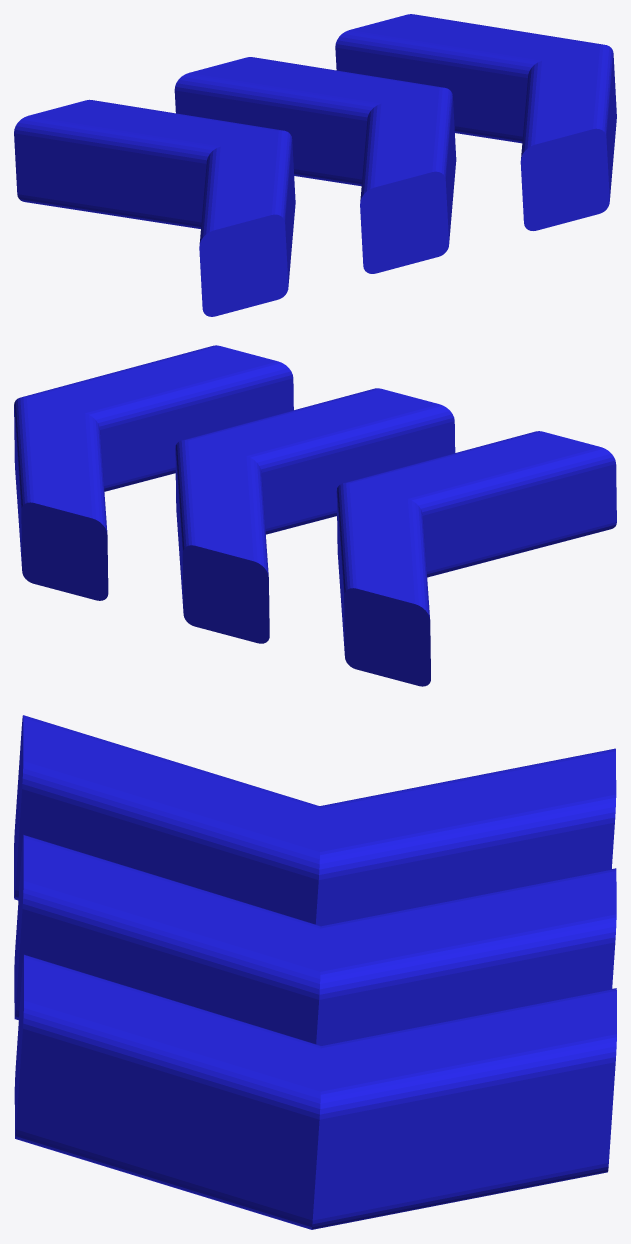
File: arrow_left.glb
The picture shows the model from 3 angles, top to bottom: view 1: azimuth 30°, elevation 25°; view 2: azimuth 150°, elevation 25°; view 3: azimuth 270°, elevation 25°; orthographic projection. The views are drawn at different scales.
Visible parts, largest first — view 1: 立方体; view 2: 立方体; view 3: 立方体.
Boxes of the visible parts, x1,y1,x2,y2 form: 立方体: (14, 14, 616, 316); 立方体: (14, 345, 616, 686); 立方体: (14, 715, 616, 1229).
Bounding box in the file's own units: 3.16 × 0.6713 × 2.03.
